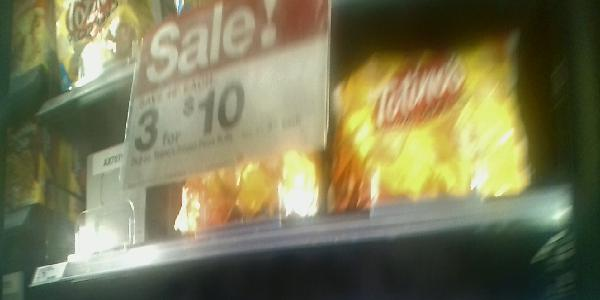icecream: (328, 33, 535, 202), (148, 77, 327, 221)
